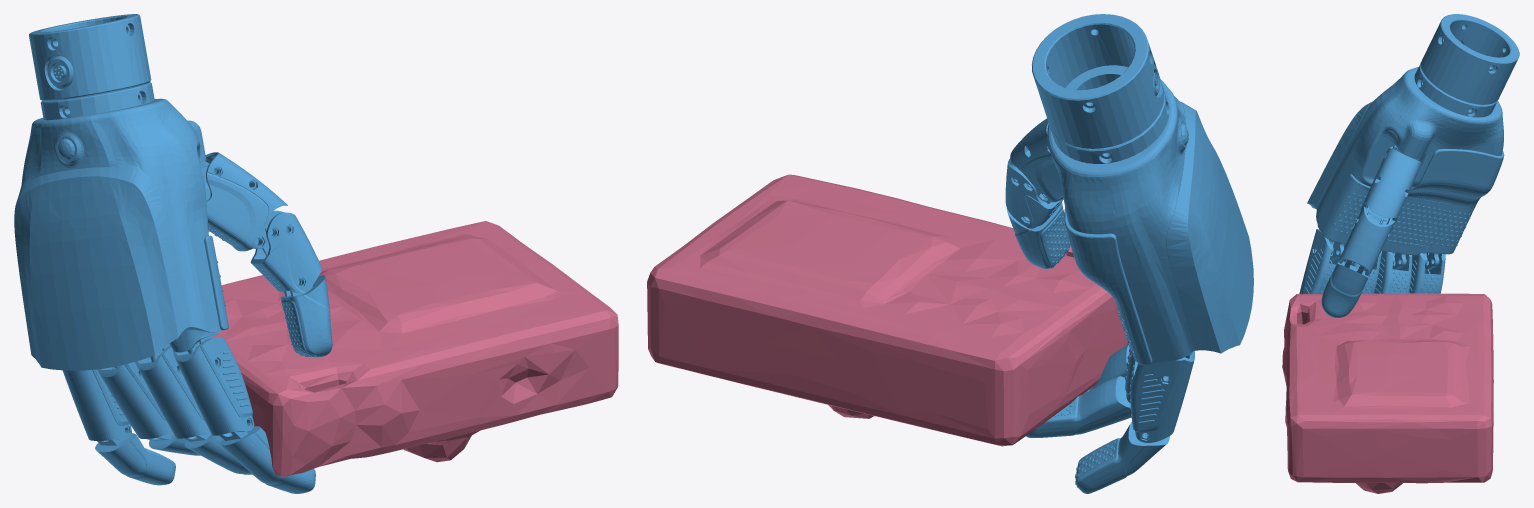
The picture shows the model from 3 angles, left to right: view 1: azimuth 30°, elevation 25°; view 2: azimuth 150°, elevation 25°; view 3: azimuth 270°, elevation 25°; orthographic projection. The views are drawn at different scales.
Visible parts, largest first — view 1: 5; view 2: 5; view 3: 5.
Boxes of the visible parts, x1,y1,x2,y2 form: 5: (14, 14, 618, 493); 5: (647, 14, 1253, 493); 5: (1282, 14, 1519, 493).
Size of the model in its own units: 0.2594 by 0.2302 by 0.1375.
